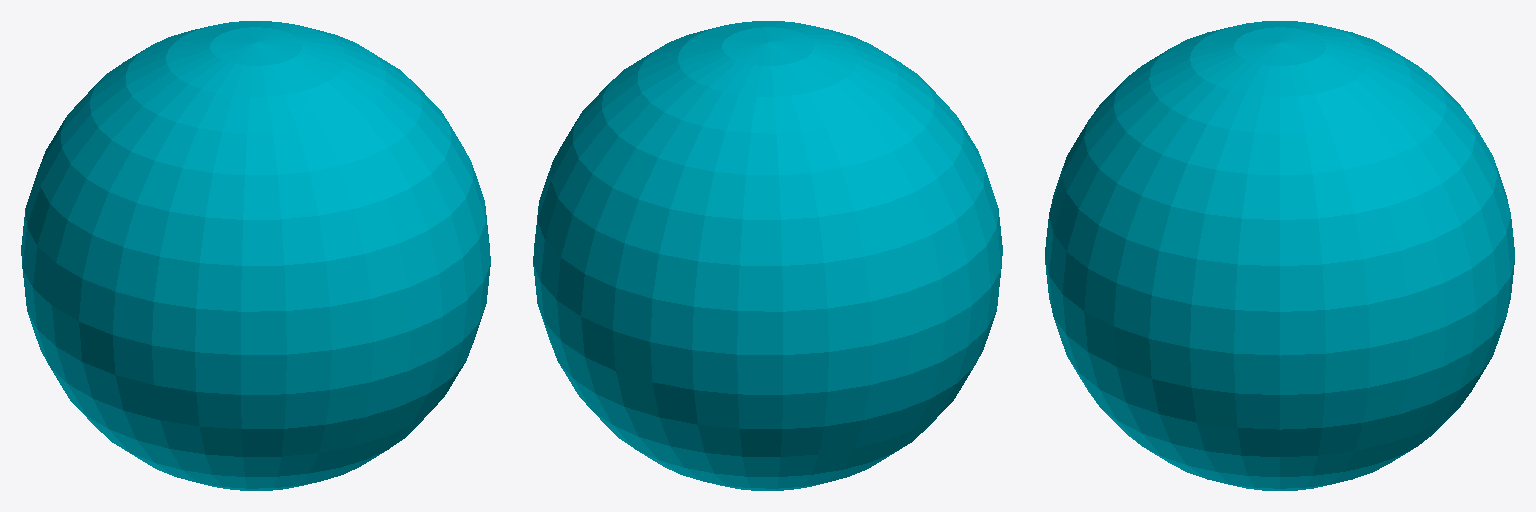
Rendered from alpha.obj.
3 views of the same model, side by side, from view 1: azimuth 30°, elevation 25°; view 2: azimuth 150°, elevation 25°; view 3: azimuth 270°, elevation 25° (orthographic).
Parts seen in each view (by area): view 1: Sphere; view 2: Sphere; view 3: Sphere.
Boxes of the visible parts, <box> form: Sphere: <box>21,21,490,490</box>; Sphere: <box>533,21,1002,490</box>; Sphere: <box>1045,21,1514,490</box>.
Bounding box in the file's own units: 4.04 × 4.04 × 4.04.